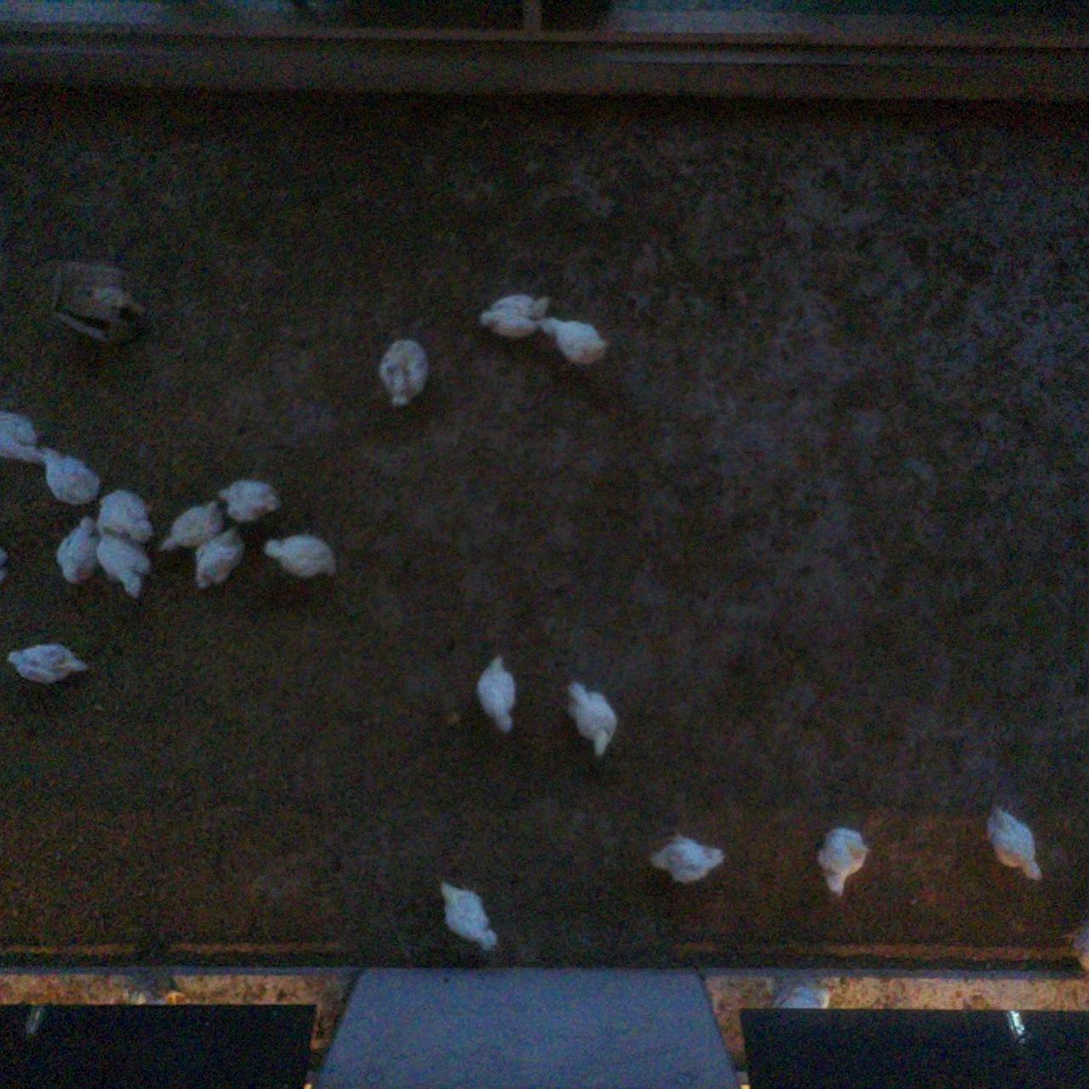chicken: (979, 798, 1049, 892), (429, 874, 506, 958), (646, 825, 731, 890), (561, 676, 623, 763), (810, 820, 874, 903), (34, 441, 104, 510), (471, 650, 525, 737), (153, 497, 230, 558), (94, 528, 155, 603), (536, 314, 613, 373), (375, 334, 433, 410), (262, 529, 342, 584), (6, 639, 92, 690), (477, 288, 553, 343), (192, 522, 250, 594), (92, 485, 158, 545), (215, 473, 284, 527), (54, 513, 101, 591), (768, 964, 840, 1013), (0, 408, 47, 469)
